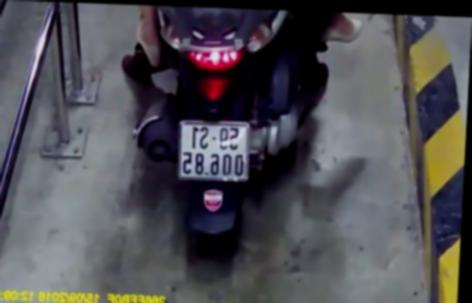License_Plate: (173, 112, 258, 186)
